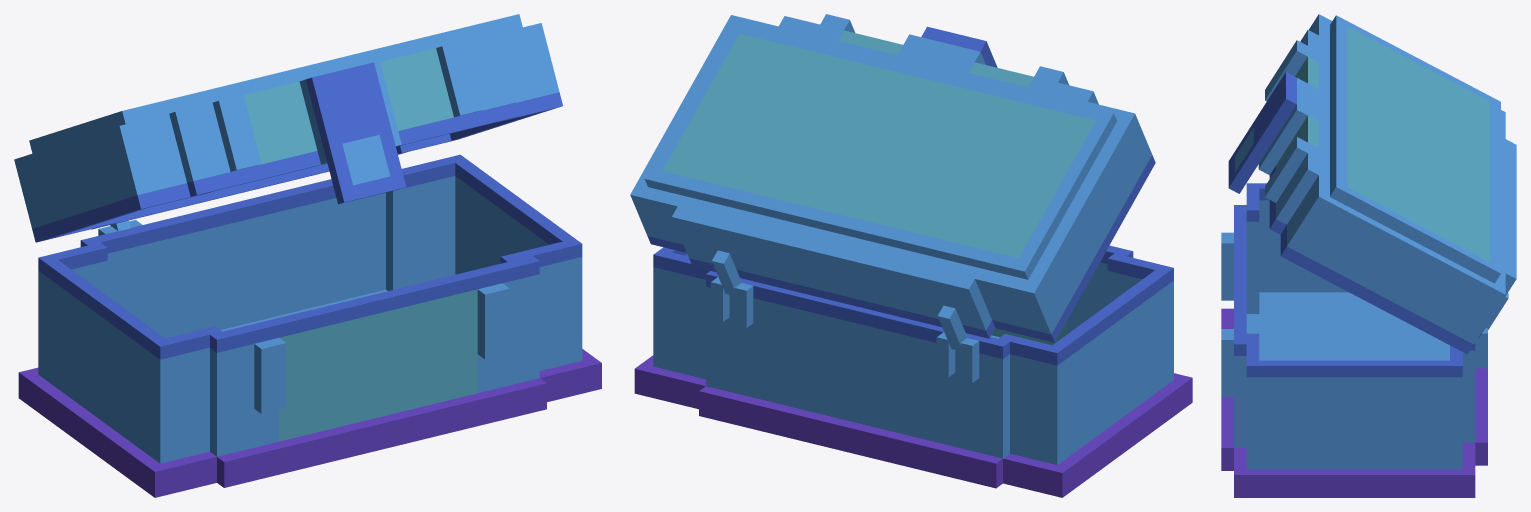
Rendered from ivent.fbx.
3 views of the same model, side by side, from view 1: azimuth 30°, elevation 25°; view 2: azimuth 150°, elevation 25°; view 3: azimuth 270°, elevation 25° (orthographic). The views are drawn at different scales.
Parts seen in each view (by area): view 1: polySurface61, polySurface62; view 2: polySurface62, polySurface61; view 3: polySurface62, polySurface61.
Part boxes in pixels (x1,y1,x2,y2): polySurface61: (18, 154, 601, 497); polySurface62: (14, 14, 562, 242); polySurface62: (630, 14, 1155, 350); polySurface61: (634, 245, 1192, 497); polySurface62: (1228, 14, 1516, 354); polySurface61: (1221, 183, 1487, 497).
Size of the model in its own units: 36 by 27.22 by 23.25.
Materials: 1 (1 with a texture image).
